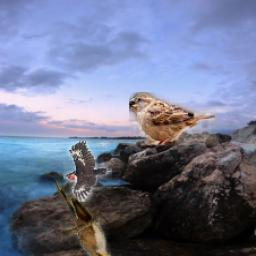Cuckoo: (54, 180, 111, 256)
Sparrow: (128, 92, 215, 145)
Woodpecker: (62, 142, 111, 203)
